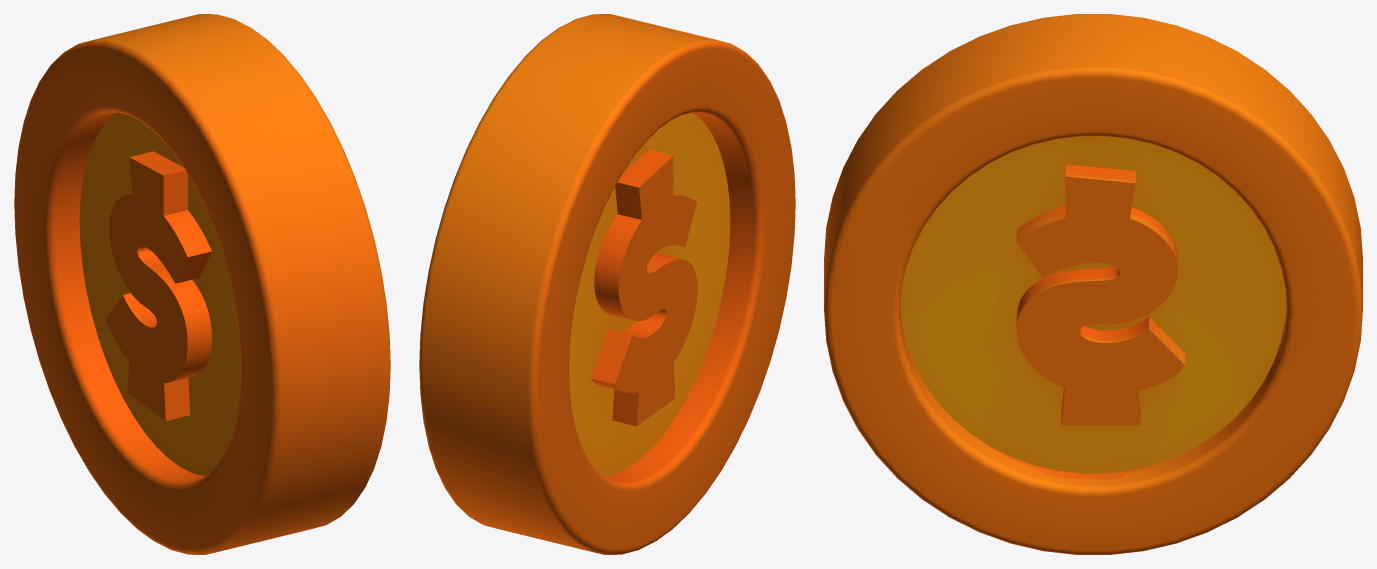
Rendered from coin.gltf.
3 views of the same model, side by side, from view 1: azimuth 30°, elevation 25°; view 2: azimuth 150°, elevation 25°; view 3: azimuth 270°, elevation 25° (orthographic). The views are drawn at different scales.
Parts seen in each view (by area): view 1: Coin_1; view 2: Coin_1; view 3: Coin_1.
Boxes of the visible parts, x1=… form: Coin_1: x1=14, y1=14, x2=390, y2=554; Coin_1: x1=419, y1=14, x2=795, y2=554; Coin_1: x1=824, y1=14, x2=1362, y2=554.
Size of the model in its own units: 0.2437 by 0.9402 by 0.9421.
1 material, 1 textured.
